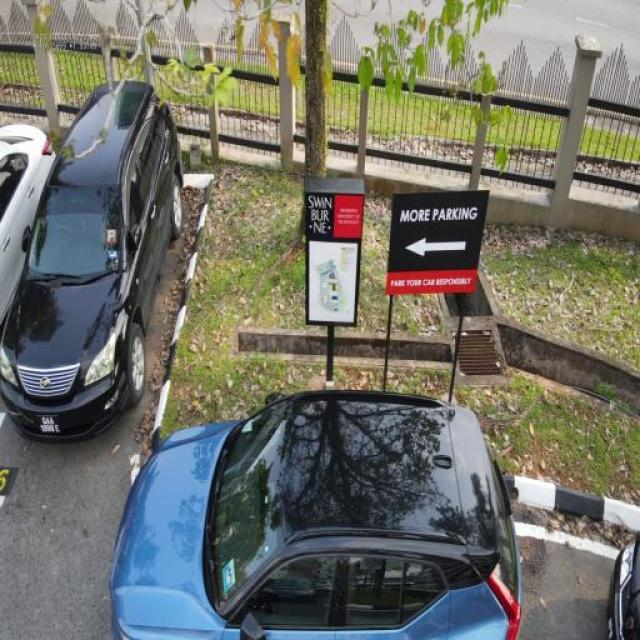Legalparking: (110, 391, 521, 639), (71, 304, 88, 319)
